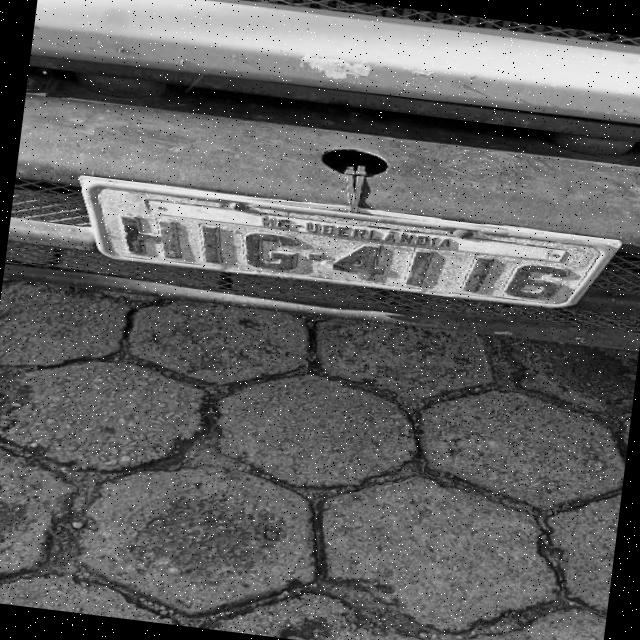placa_mercosul: (87, 181, 617, 310)
